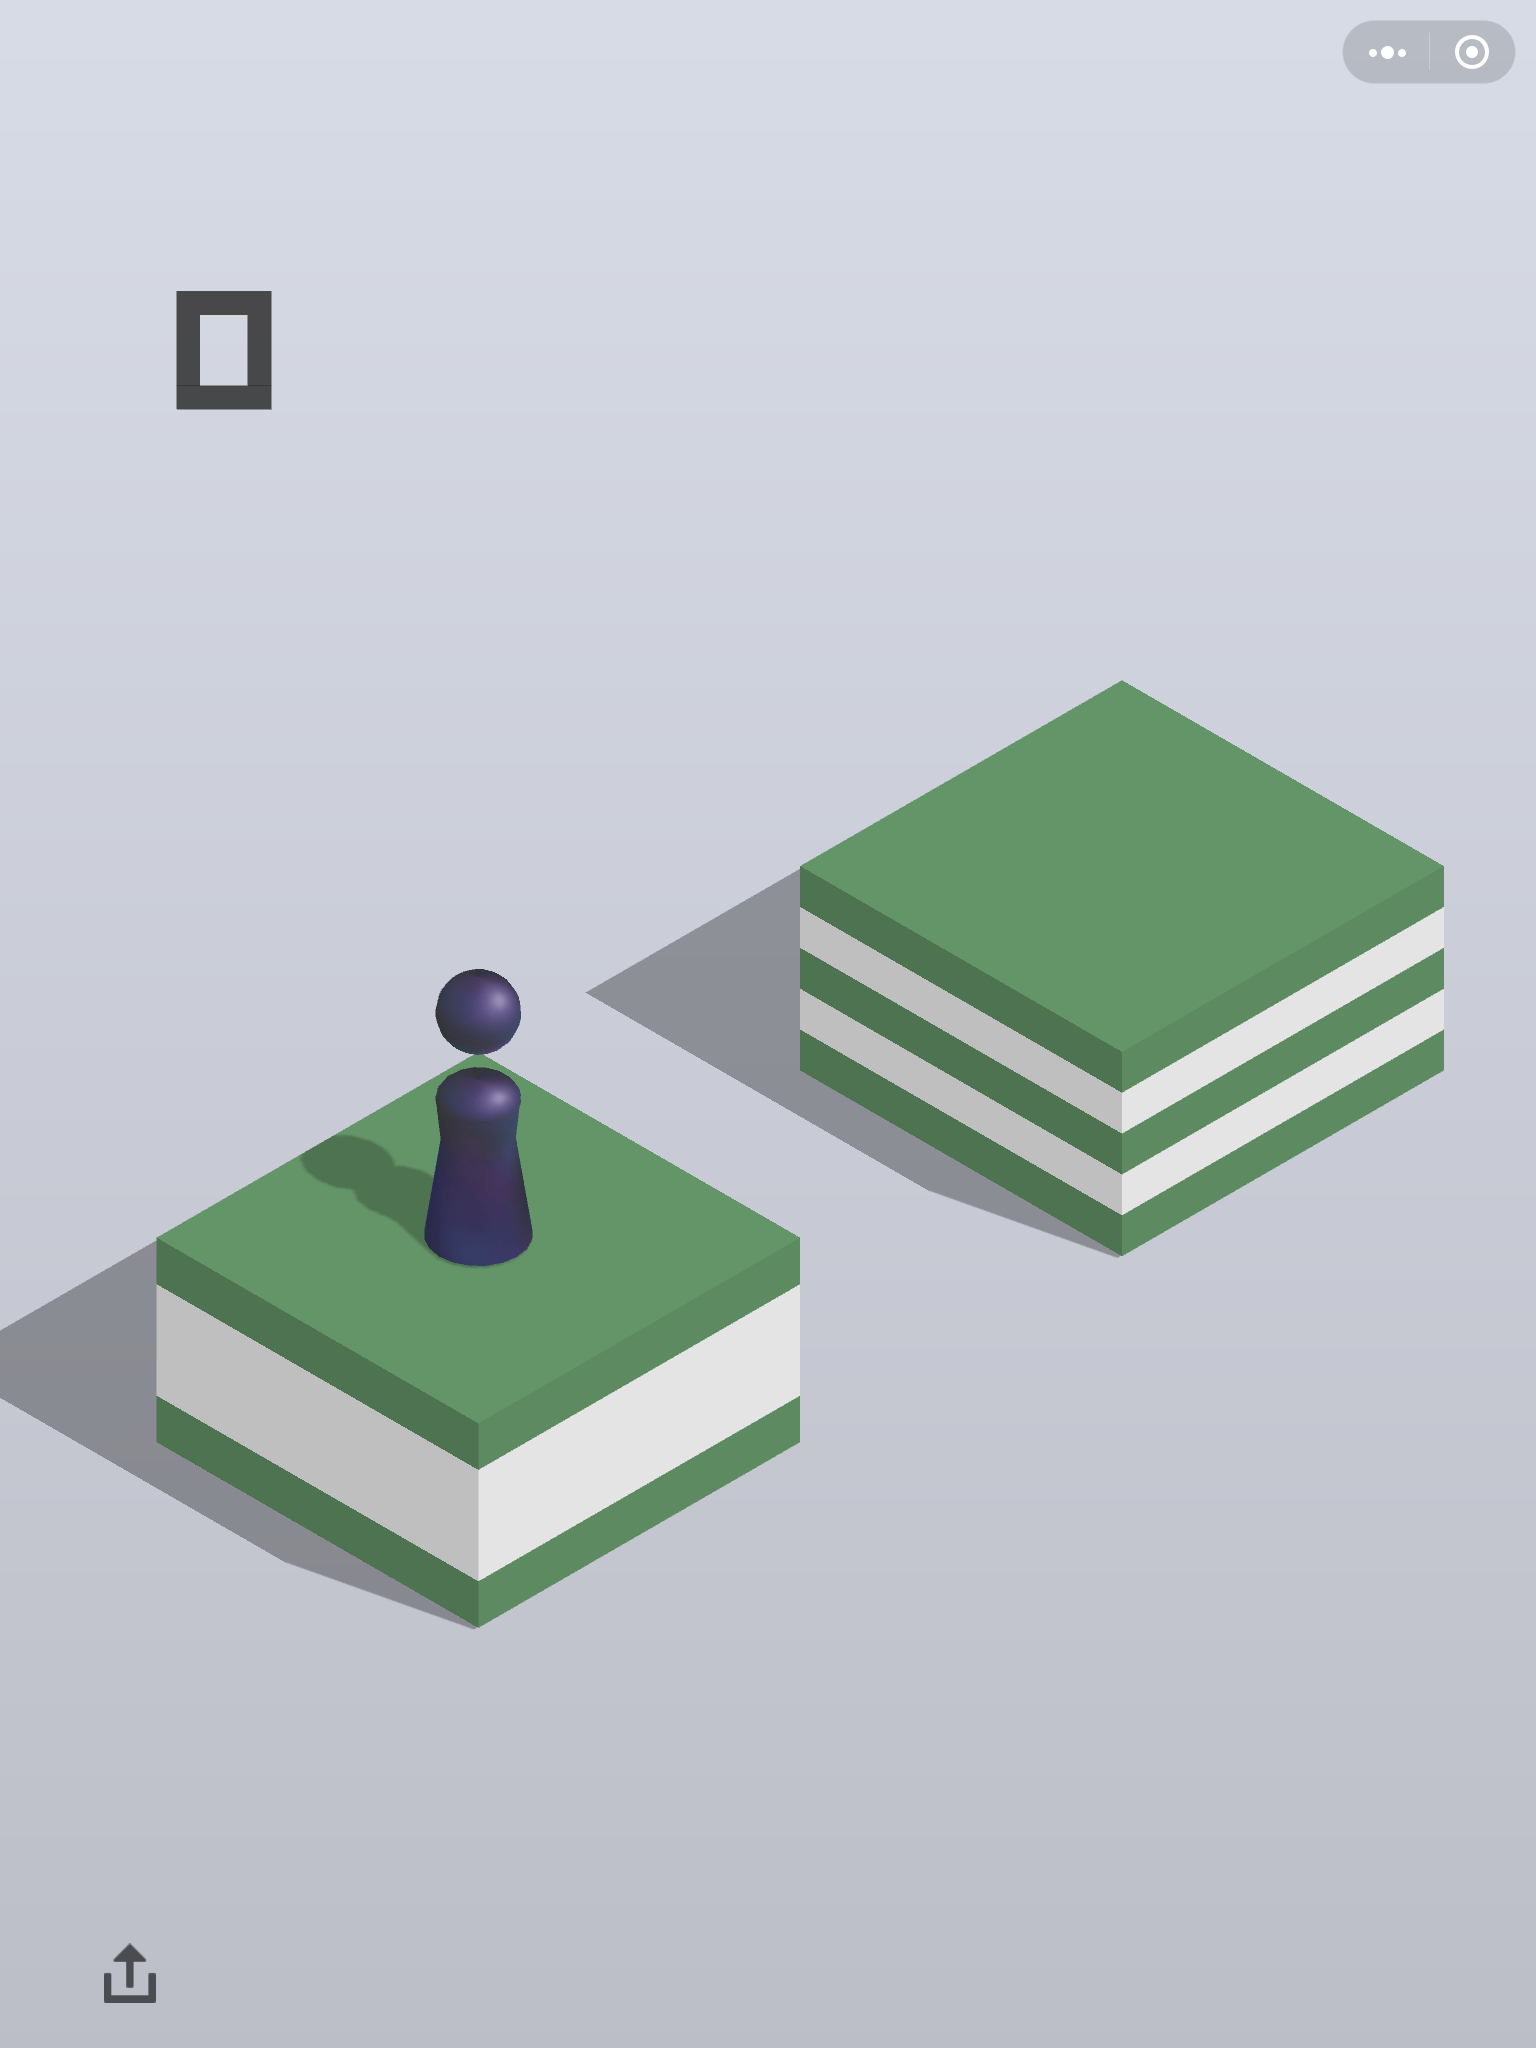f: (794, 679, 1454, 1264), (148, 1050, 810, 1632)
r: (416, 964, 544, 1276)
